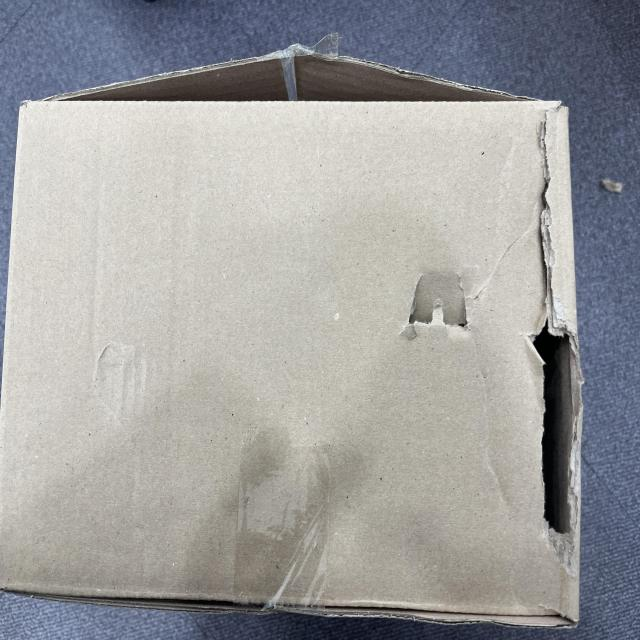damaged: (216, 532, 275, 634)
